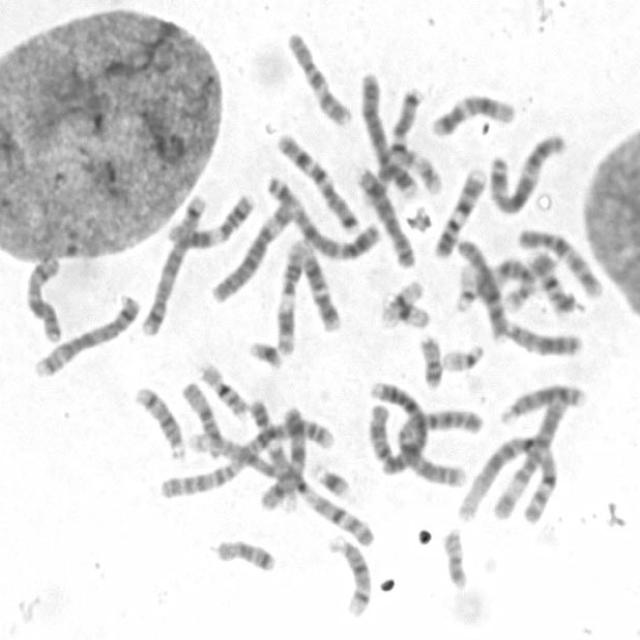A1: (183, 425, 377, 549), (452, 432, 562, 525)
A2: (154, 408, 334, 501), (365, 376, 468, 489)
A3: (262, 168, 383, 263), (484, 127, 570, 216)
B4: (356, 66, 420, 202), (363, 376, 430, 476)
B5: (137, 188, 208, 338), (30, 290, 143, 379)
C10: (282, 26, 354, 128), (515, 222, 606, 299)
C11: (165, 190, 256, 249), (272, 235, 308, 356)
C12: (293, 234, 344, 333), (426, 88, 516, 138)
C6: (486, 386, 572, 522), (207, 193, 297, 305)
C7: (272, 127, 362, 234), (376, 82, 434, 190)
C8: (351, 160, 418, 268), (452, 232, 512, 342)
C9: (247, 396, 304, 516), (428, 162, 486, 258)
D13: (494, 377, 586, 427), (499, 314, 585, 358)
D14: (130, 379, 188, 461), (323, 531, 374, 619)
D15: (177, 376, 224, 460), (476, 257, 540, 303)
E16: (194, 356, 250, 419), (533, 250, 577, 317)
E17: (500, 246, 554, 321), (399, 143, 444, 197)
E18: (211, 533, 279, 574), (364, 398, 394, 463)
F19: (376, 274, 427, 329), (381, 294, 433, 332)
F20: (438, 522, 470, 590), (416, 328, 446, 390)
G21: (310, 459, 353, 499), (244, 334, 285, 370)
G22: (438, 338, 487, 373), (450, 257, 480, 314)
X: (256, 401, 308, 512), (21, 249, 64, 343)
